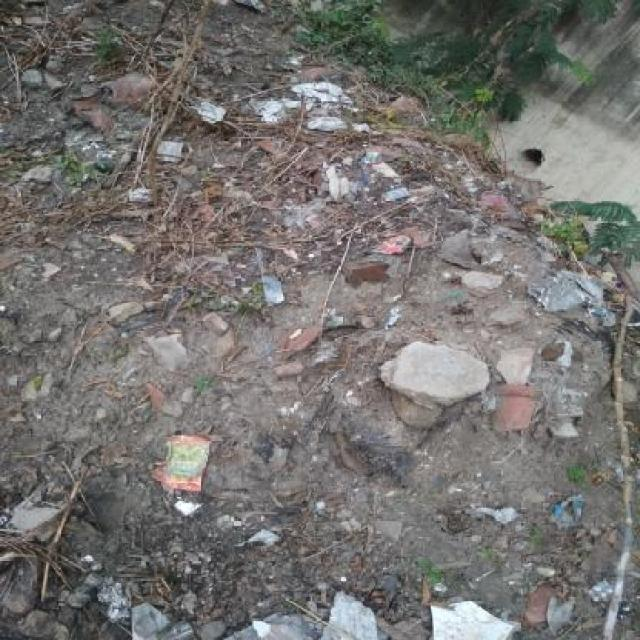garbage: (20, 494, 606, 640), (0, 106, 494, 240), (455, 266, 640, 438), (17, 260, 290, 348), (2, 3, 200, 89), (28, 354, 179, 435), (157, 415, 241, 503)
